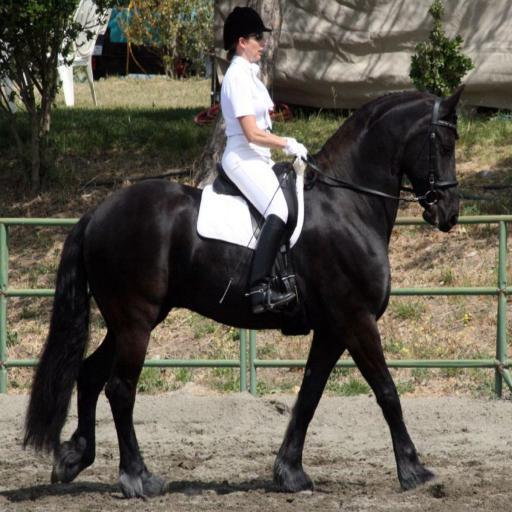horse: (16, 84, 466, 500)
